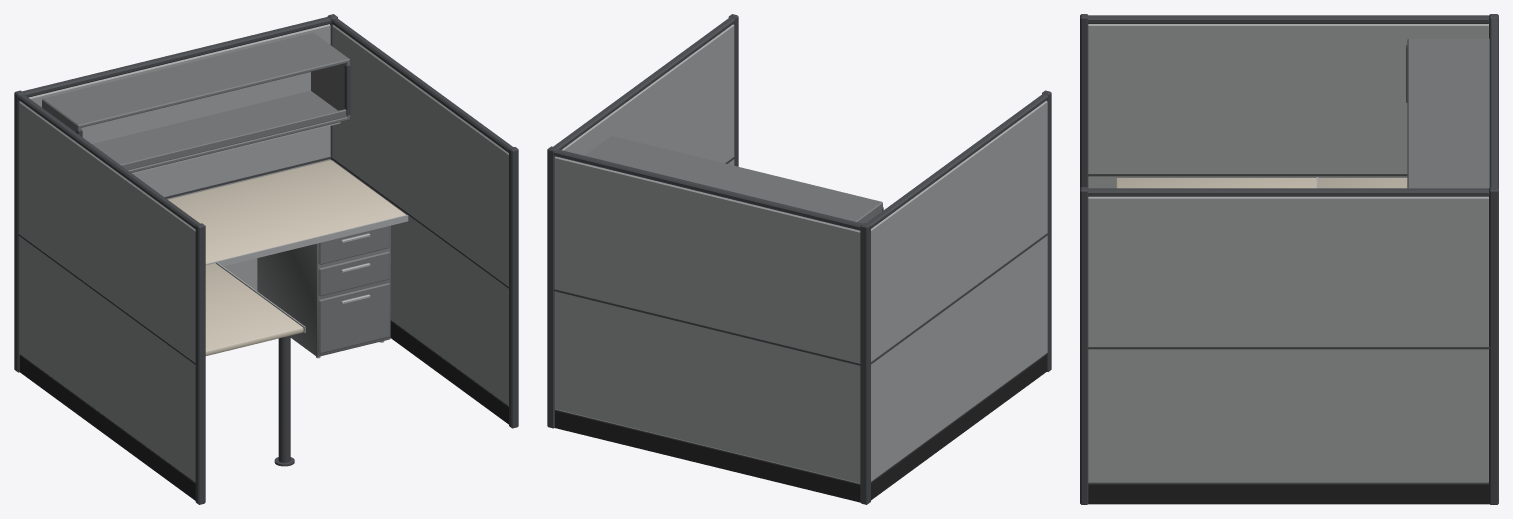
Rendered from OfficeCubicle.fbx.
The picture shows the model from 3 angles, left to right: view 1: azimuth 30°, elevation 25°; view 2: azimuth 150°, elevation 25°; view 3: azimuth 270°, elevation 25°; orthographic projection. The views are drawn at different scales.
Visible parts, largest first — view 1: OfficeCubicle_Mesh; view 2: OfficeCubicle_Mesh; view 3: OfficeCubicle_Mesh.
Boxes of the visible parts, x1,y1,x2,y2 form: OfficeCubicle_Mesh: (14,14,518,504); OfficeCubicle_Mesh: (547,14,1051,504); OfficeCubicle_Mesh: (1080,14,1498,504).
Size of the model in its own units: 1.81 by 1.5 by 1.81.
